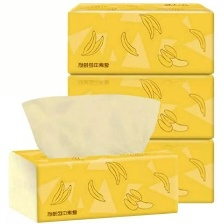tissue: (0, 86, 184, 223), (61, 0, 221, 79), (61, 67, 221, 142), (61, 134, 221, 207)
